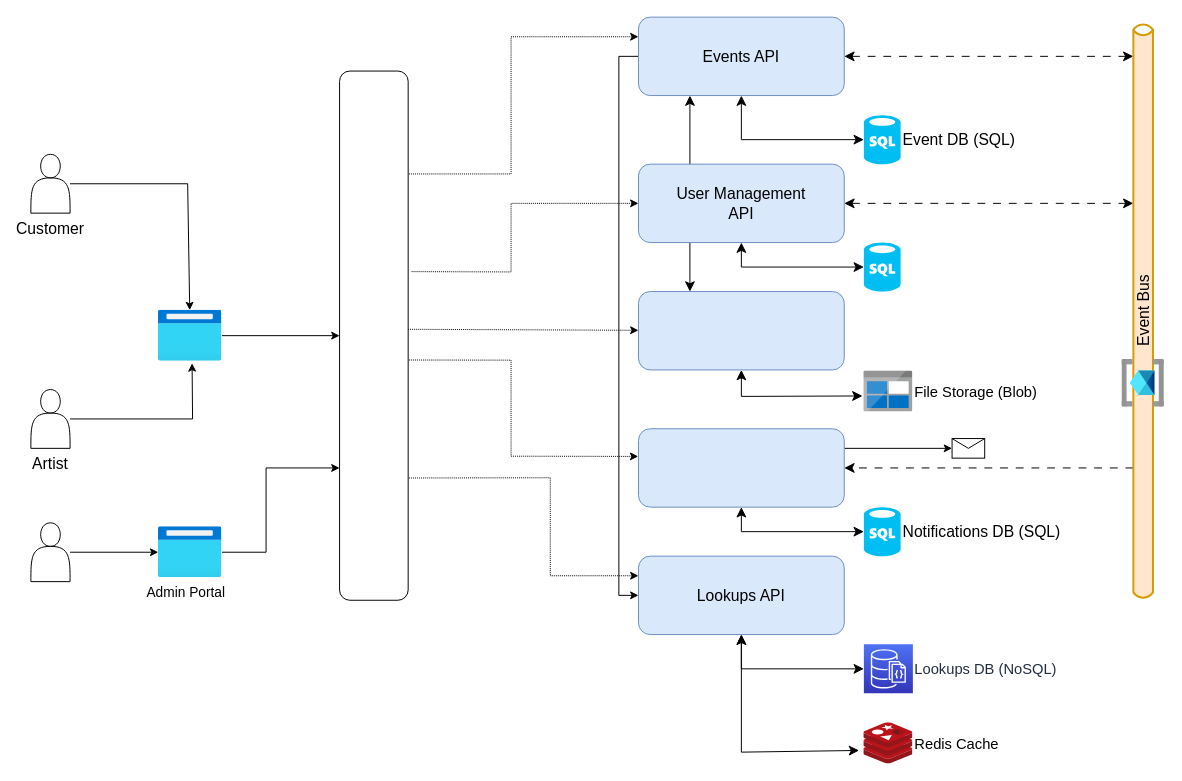
Image size: 1182x781. Some labels were removed from this diagram. The shapes that lost their labels are listed below. From the top down, each one's box as (x1, y1, x2, y2) in pixels, then its label:
(863, 242, 900, 291): User DB (SQL)
(158, 310, 221, 361): Customer Portal
(339, 70, 408, 600): API Gateway
(637, 291, 844, 370): Documents API
(637, 428, 844, 507): Notifications API
(30, 522, 70, 582): Admin
